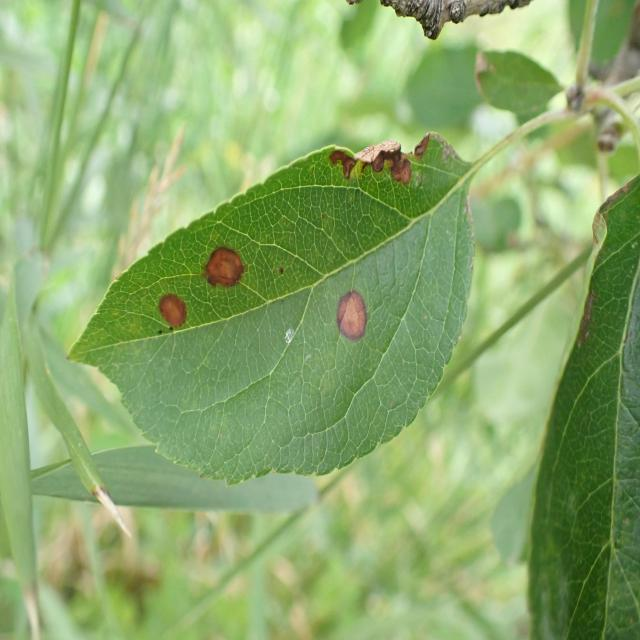frog-eye-leaf-spot: (65, 131, 476, 486)
